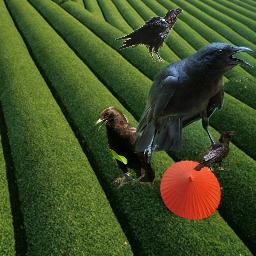Crow: (132, 42, 254, 164), (94, 106, 155, 189), (114, 8, 183, 62), (193, 131, 235, 171)
Cuckoo: (116, 172, 131, 189)
